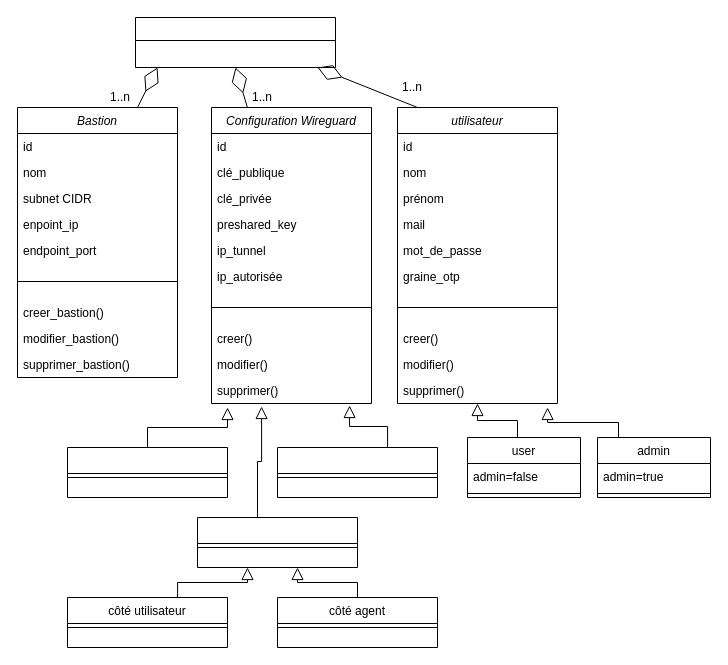
Some shapes in this 728 by 665 pixel diagram are drawn without their labels. The centre of each missing label's shape, as x and y in pixels:
"BastionManager" goes at point (235, 42).
"configuration agent" goes at point (147, 472).
"configuration bastion" goes at point (277, 542).
"configuration utilisateur" goes at point (357, 472).
